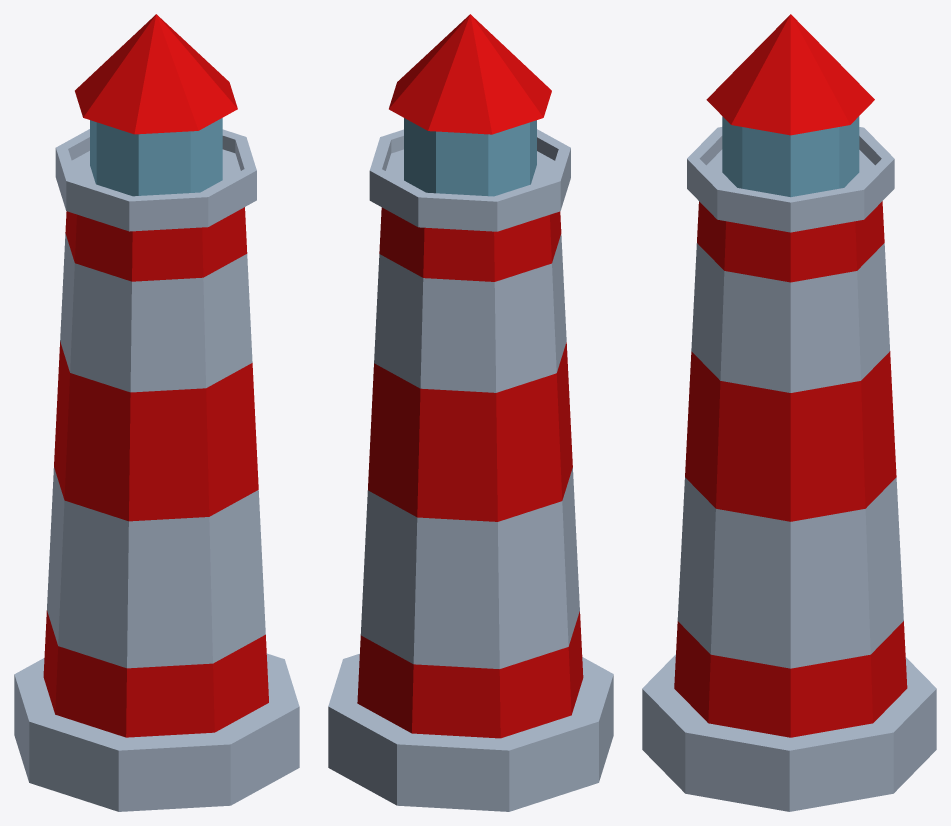
File: DengTa1_Mo.fbx
3 renders of one model, left to right at view 1: azimuth 30°, elevation 25°; view 2: azimuth 150°, elevation 25°; view 3: azimuth 270°, elevation 25°, orthographic.
Visible parts, largest first — view 1: Cylinder002; view 2: Cylinder002; view 3: Cylinder002.
Boxes of the visible parts, left/top/right/bottom form: Cylinder002: left=14, top=14, right=299, bottom=811; Cylinder002: left=328, top=14, right=613, bottom=811; Cylinder002: left=642, top=14, right=936, bottom=811.
Size of the model in its own units: 199 by 548 by 199.
Materials: 1 (1 with a texture image).
